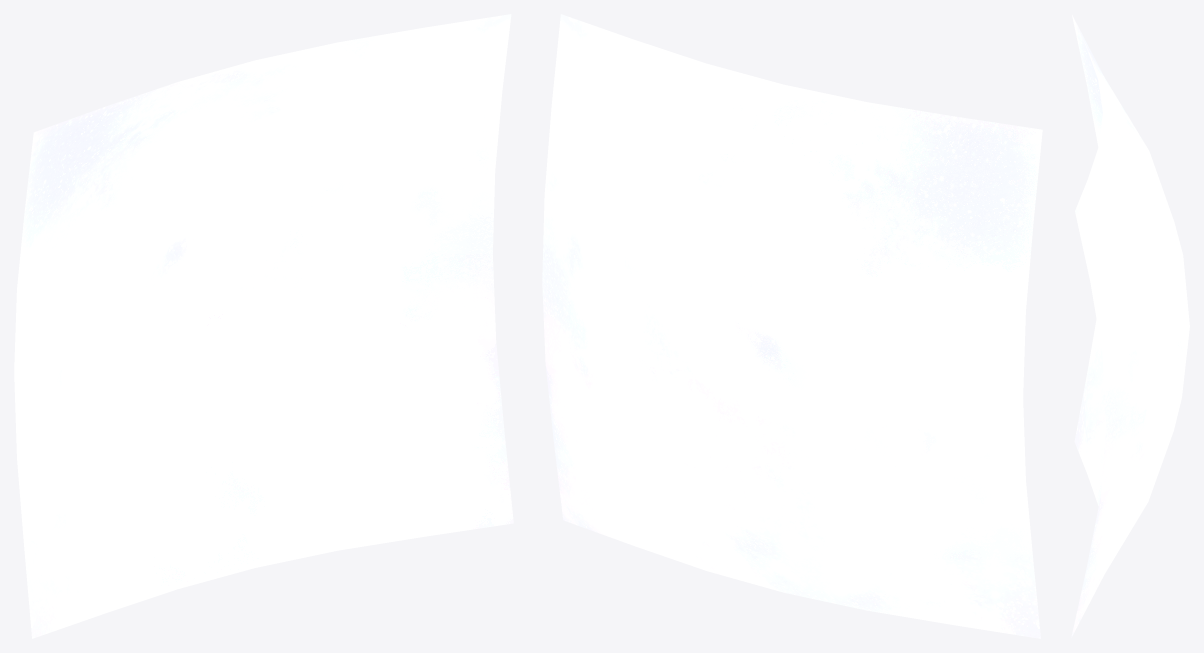
The model's file is bg_solarian9_3db.gltf.
The picture shows the model from 3 angles, left to right: view 1: azimuth 30°, elevation 25°; view 2: azimuth 150°, elevation 25°; view 3: azimuth 270°, elevation 25°; orthographic projection. The views are drawn at different scales.
Parts seen in each view (by area): view 1: bg_solarian9.3db; view 2: bg_solarian9.3db; view 3: bg_solarian9.3db.
Boxes of the visible parts, <box> form: bg_solarian9.3db: <box>14,14,513,638</box>; bg_solarian9.3db: <box>542,14,1042,638</box>; bg_solarian9.3db: <box>1071,15,1189,637</box>.
Bounding box in the file's own units: 73.75 × 74.6 × 18.8.
Materials: 4 (4 with a texture image).
